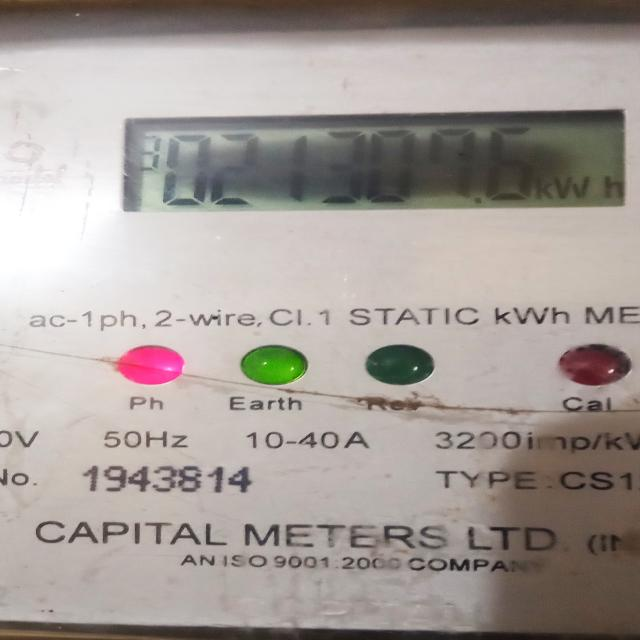display: (98, 114, 640, 211)
